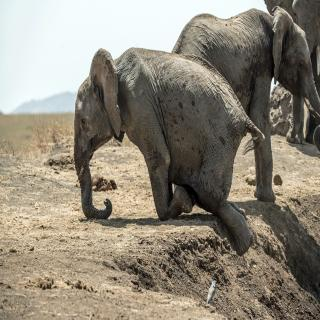Elephant: (71, 44, 266, 260), (162, 6, 320, 208)
